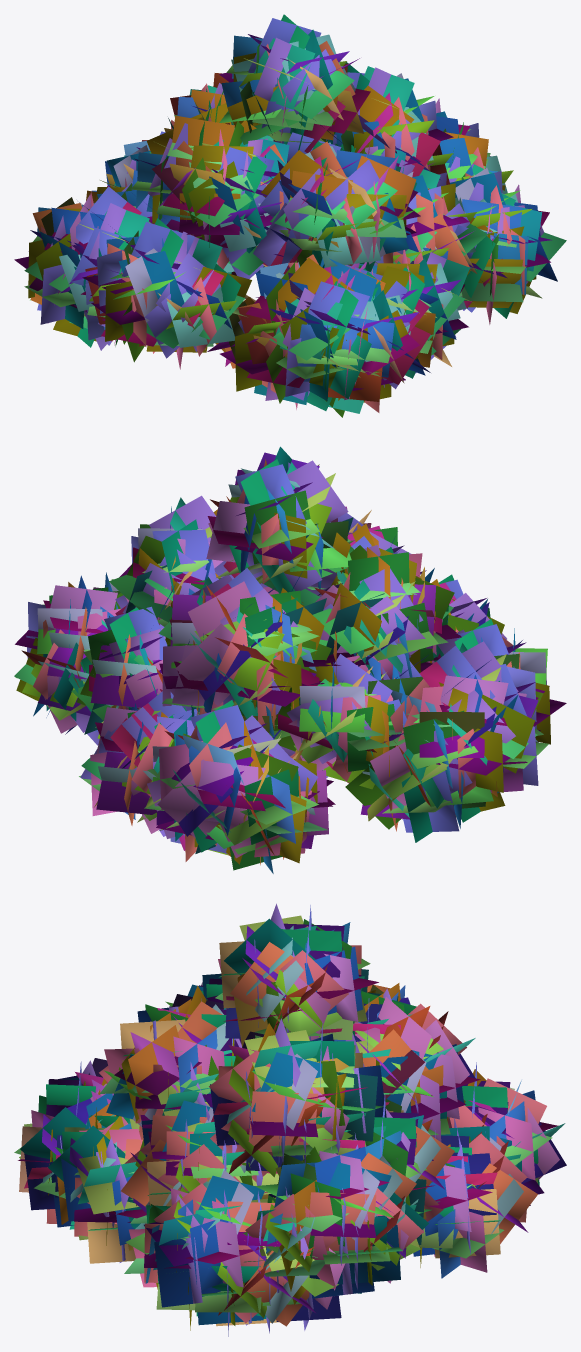
The model's file is nature_tree_green_tall_05_leaves.fbx.
3 views of the same model, one above another, from view 1: azimuth 30°, elevation 25°; view 2: azimuth 150°, elevation 25°; view 3: azimuth 270°, elevation 25° (orthographic). The views are drawn at different scales.
Parts seen in each view (by area): view 1: nature_tree_green_tall_05_leaves_lod0; view 2: nature_tree_green_tall_05_leaves_lod0; view 3: nature_tree_green_tall_05_leaves_lod0.
Boxes of the visible parts, x1,y1,x2,y2 form: nature_tree_green_tall_05_leaves_lod0: (14, 14, 566, 417); nature_tree_green_tall_05_leaves_lod0: (14, 446, 566, 873); nature_tree_green_tall_05_leaves_lod0: (14, 903, 566, 1336).
Size of what is drawn, in the model's own units: 1787 by 1176 by 1681.
